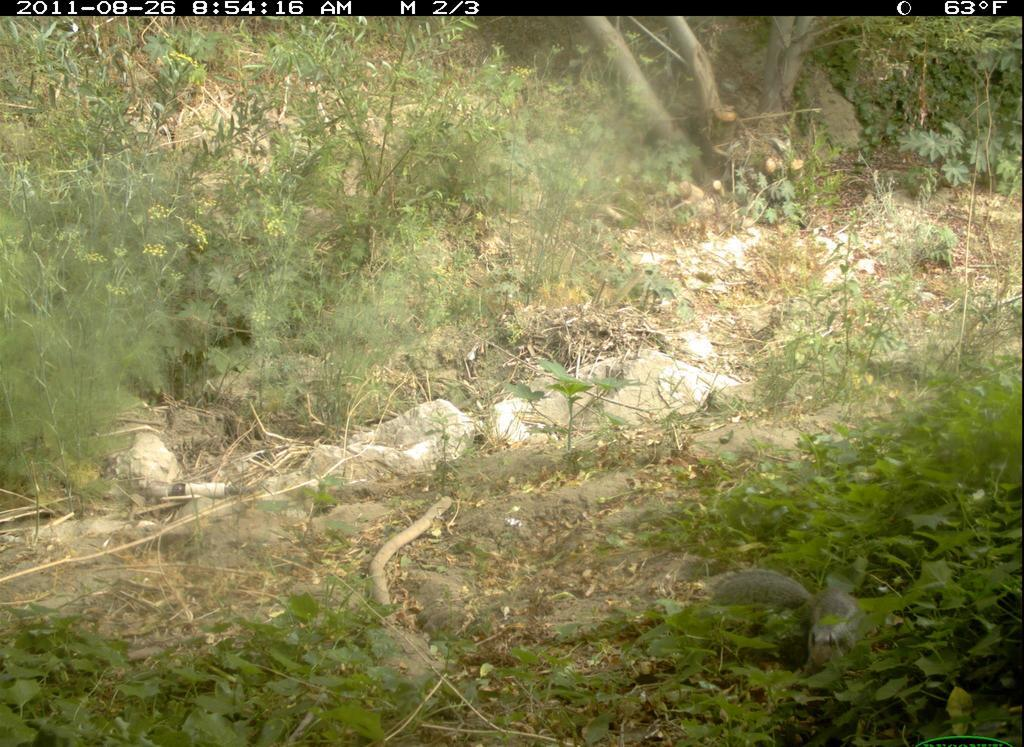squirrel: (698, 557, 898, 669)
